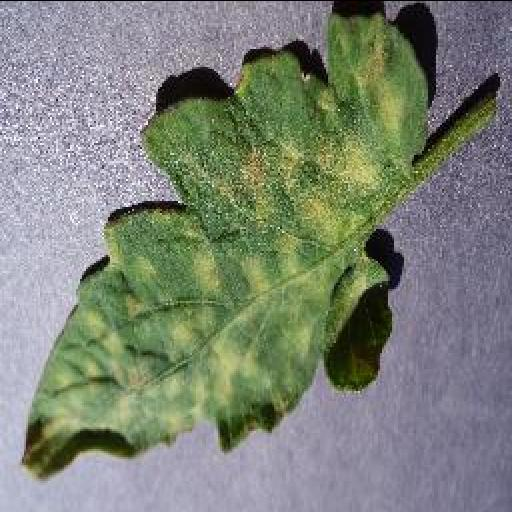disease_tomato: (18, 8, 434, 478)
